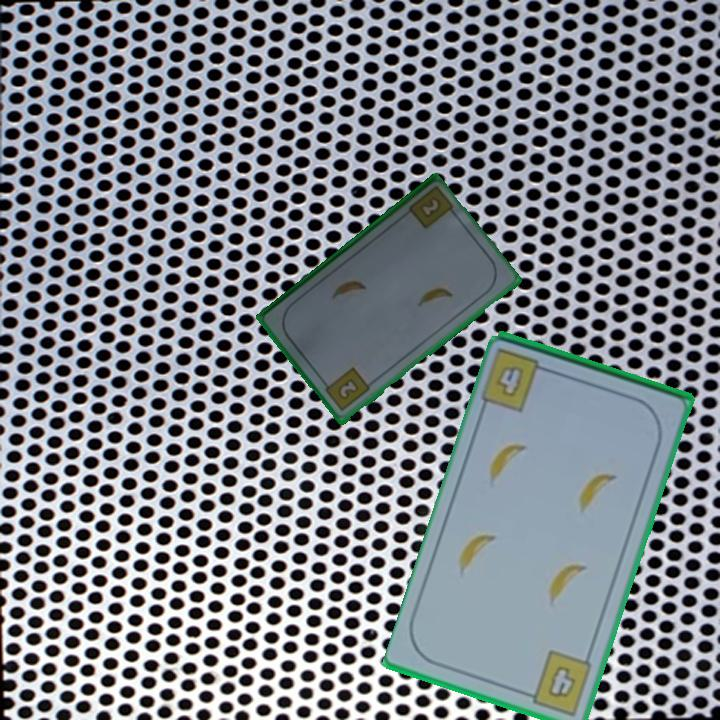2b: (320, 364, 373, 415), (416, 195, 442, 221)
4b: (519, 647, 596, 719), (496, 366, 524, 398)
